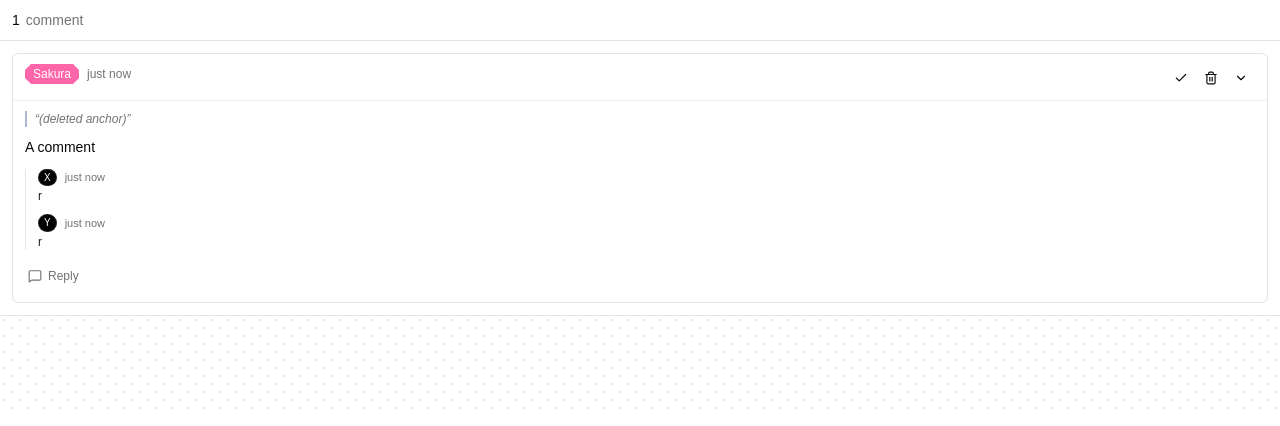
Test case: CommentsTab › shows a reply count badge on collapsed threads with replies
Note: Collapse the thread first so the compact summary is shown
Click the button named "Collapse". click: (1241, 78)
box: [1227, 64, 1255, 92]
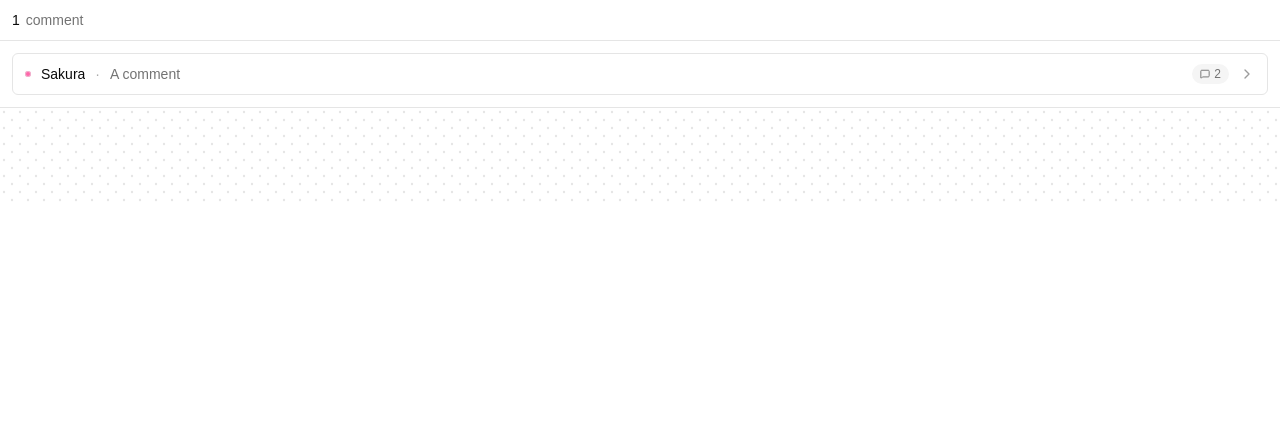
Check: the text "2" is shown, box [1192, 64, 1229, 84]
